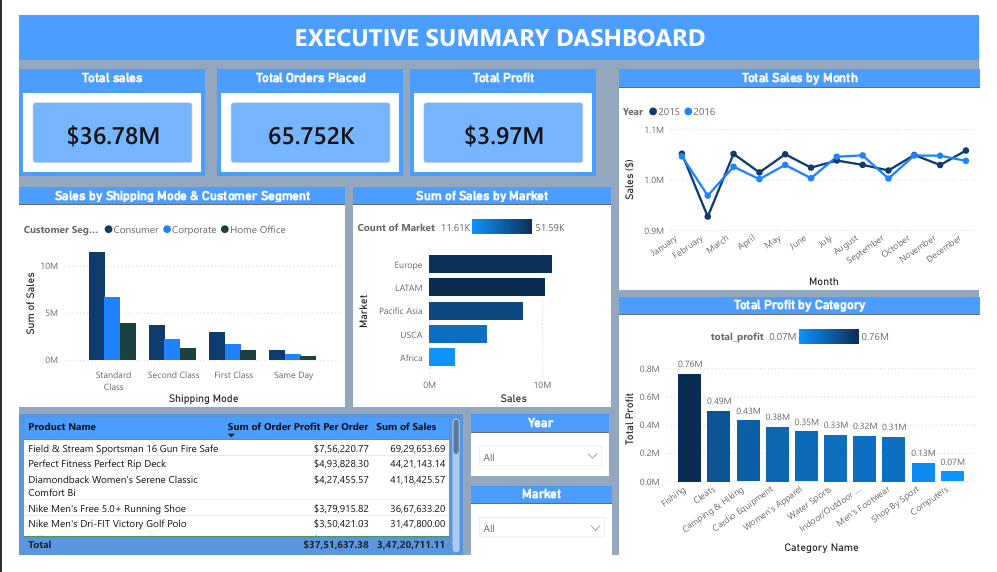

Layout of this report page (visuals, bound fields, positions):
{"tool":"powerbi","page":{"name":"Executive_summary","canvas":[1280,720],"ordinal":0},"visuals":[{"type":"cardVisual","title":"Total sales","fields":{"Data":["DataCo_Cleaned.total_sales"]},"box":[0,72.1,247,141.8],"z":0},{"type":"cardVisual","title":"Total Orders Placed","fields":{"Data":["Count(DataCo_Cleaned.Order Id)"]},"box":[264.1,72.1,247,141.8],"z":1000},{"type":"cardVisual","title":"Total Profit ","fields":{"Data":["Sum(DataCo_Cleaned.Order Profit Per Order)"]},"box":[520.9,72.1,247,141.8],"z":2000},{"type":"textbox","box":[0,0,1280.3,58.7],"z":3000},{"type":"lineChart","title":"Total Sales by Month","fields":{"Y":["Sum(DataCo_Cleaned.Sales)"],"Category":["DataCo_Cleaned.Month"],"Series":["DataCo_Cleaned.Year"]},"box":[798.5,72.1,481.8,293.5],"z":4000},{"type":"clusteredBarChart","fields":{"Category":["DataCo_Cleaned.Market"],"Y":["Sum(DataCo_Cleaned.Sales)"]},"box":[445.1,228.7,342.4,293.5],"z":5000},{"type":"clusteredColumnChart","title":"Sales by Shipping Mode & Customer Segment","fields":{"Category":["DataCo_Cleaned.Shipping Mode"],"Y":["Sum(DataCo_Cleaned.Sales)"],"Series":["DataCo_Cleaned.Customer Segment"]},"box":[0,228.7,434.1,293.5],"z":6000},{"type":"slicer","title":"Year","fields":{"Values":["DataCo_Cleaned.Year"]},"box":[602.2,531.9,184.1,82.6],"z":7000},{"type":"slicer","title":"Market","fields":{"Values":["DataCo_Cleaned.Market"]},"box":[602.2,626.6,188.1,93.4],"z":8000},{"type":"tableEx","fields":{"Values":["DataCo_Cleaned.Product Name","Sum(DataCo_Cleaned.Order Profit Per Order)","Sum(DataCo_Cleaned.Sales)"]},"box":[0,531.9,591.4,188.1],"z":9000},{"type":"clusteredColumnChart","title":"Total Profit by Category","fields":{"Category":["DataCo_Cleaned.Category Name"],"Y":["DataCo_Cleaned.total_profit"]},"box":[798.5,375.4,481.8,344.8],"z":10000}]}

Visuals, with their boxes in screenshot pixels (x1, y1, x2, y2), scaled from the page's 1280x720 canvas onto the 997x572 screenshot:
"Total sales" cardVisual: [x1=0, y1=57, x2=192, y2=170]
"Total Orders Placed" cardVisual: [x1=206, y1=57, x2=398, y2=170]
"Total Profit " cardVisual: [x1=406, y1=57, x2=598, y2=170]
textbox: [x1=0, y1=0, x2=996, y2=47]
"Total Sales by Month" lineChart: [x1=622, y1=57, x2=996, y2=290]
clusteredBarChart - DataCo_Cleaned.Market x Sum(DataCo_Cleaned.Sales): [x1=347, y1=182, x2=613, y2=415]
"Sales by Shipping Mode & Customer Segment" clusteredColumnChart: [x1=0, y1=182, x2=338, y2=415]
"Year" slicer: [x1=469, y1=423, x2=612, y2=488]
"Market" slicer: [x1=469, y1=498, x2=616, y2=571]
tableEx - DataCo_Cleaned.Product Name x Sum(DataCo_Cleaned.Order Profit Per Order): [x1=0, y1=423, x2=461, y2=571]
"Total Profit by Category" clusteredColumnChart: [x1=622, y1=298, x2=996, y2=571]
